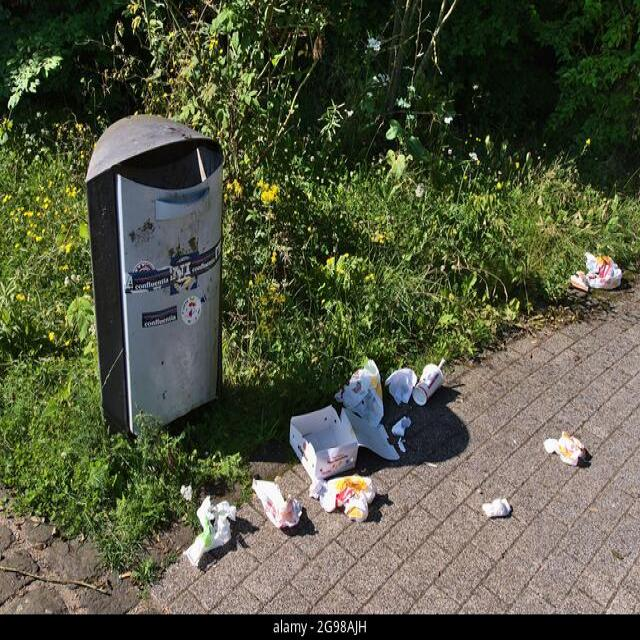metal: (90, 133, 233, 318)
trash: (186, 358, 457, 596)
